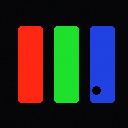0 point: (92, 86, 100, 94)
